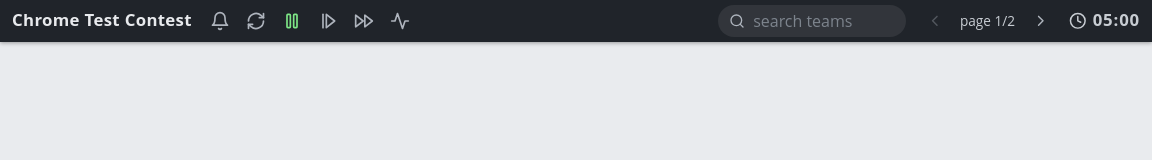
Scenario: Header › paginates the FILTERED standings and resets the page when the query changes
Note: Go to the last page of the unfiltered list…
Click the button named "Next page": (1041, 21) [1025,5,1057,37]
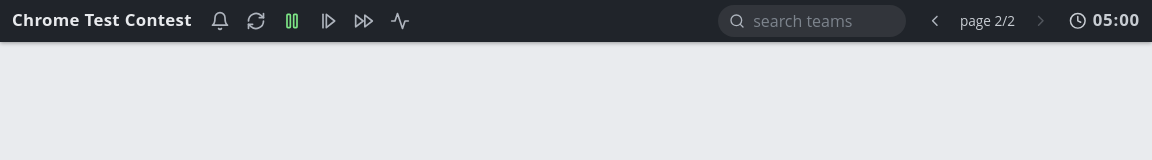
Expected: the text "page 2/2" is shown, [960,11,1015,30]
In the search field labelled "search teams": (823, 21) [751,9,895,33], type "One"
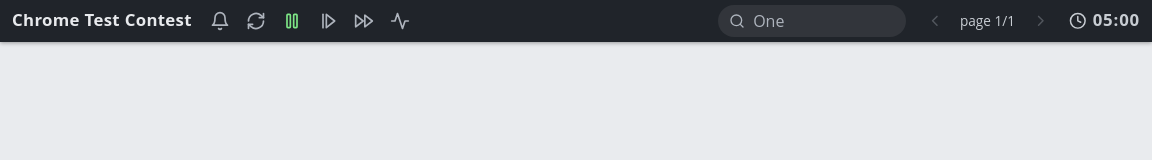
Expected: the button named "Previous page" is disabled, [918,5,950,37]
Expected: the text "page 1/1" is shown, [960,11,1015,30]
Note: Clearing the query restores the full pagination on page 1.
Clear the search field named "search teams": (823, 21) [751,9,895,33]
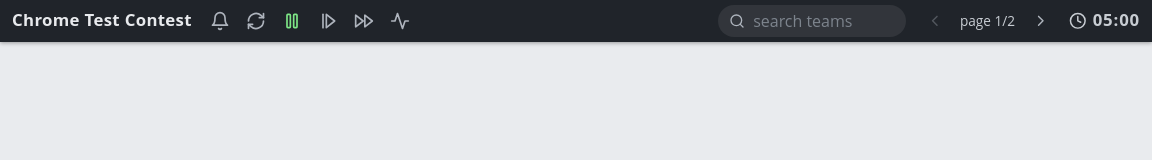
Expected: the text "page 1/2" is shown, [960,11,1015,30]
